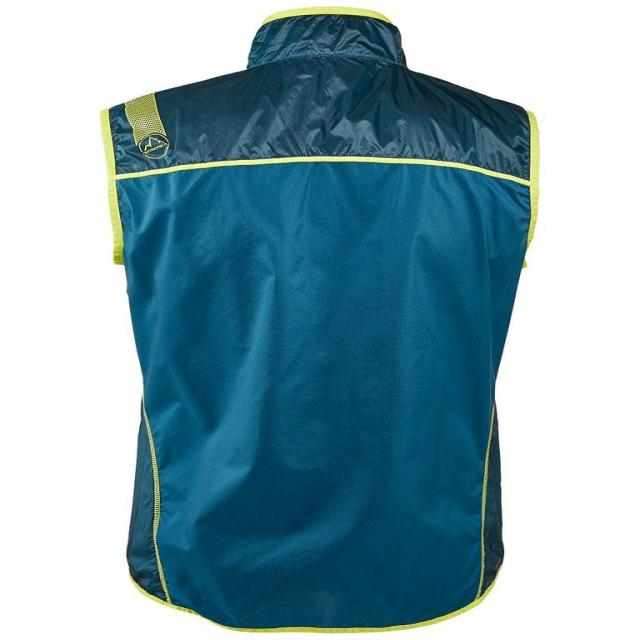Reflective-Jacket: (11, 7, 623, 640)
